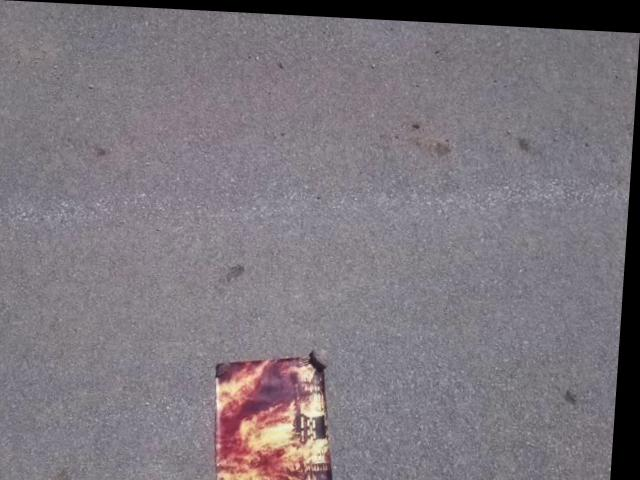fire-poster: (212, 340, 352, 480)
